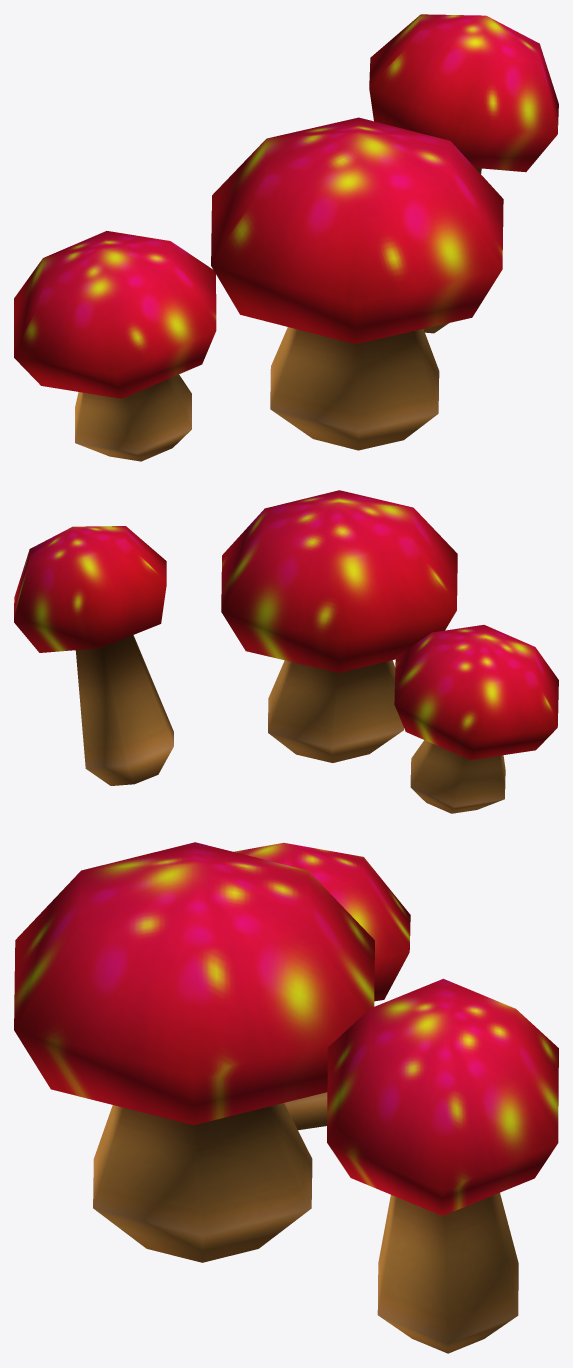
The model's file is Mushroom_05Group.FBX.
3 renders of one model, top to bottom at view 1: azimuth 30°, elevation 25°; view 2: azimuth 150°, elevation 25°; view 3: azimuth 270°, elevation 25°, orthographic. The views are drawn at different scales.
Parts seen in each view (by area): view 1: Mushroom_05Group; view 2: Mushroom_05Group; view 3: Mushroom_05Group.
Boxes of the visible parts, box(x1,y1,x2,y2) form: Mushroom_05Group: box(14, 14, 558, 461); Mushroom_05Group: box(14, 490, 558, 813); Mushroom_05Group: box(14, 842, 558, 1353).
Size of the model in its own units: 0.6268 by 0.3042 by 0.3938.
